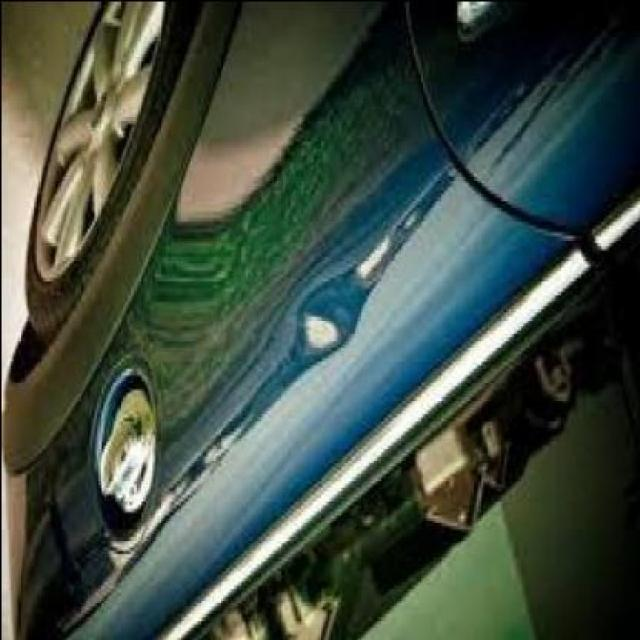damage: (282, 226, 405, 377)
